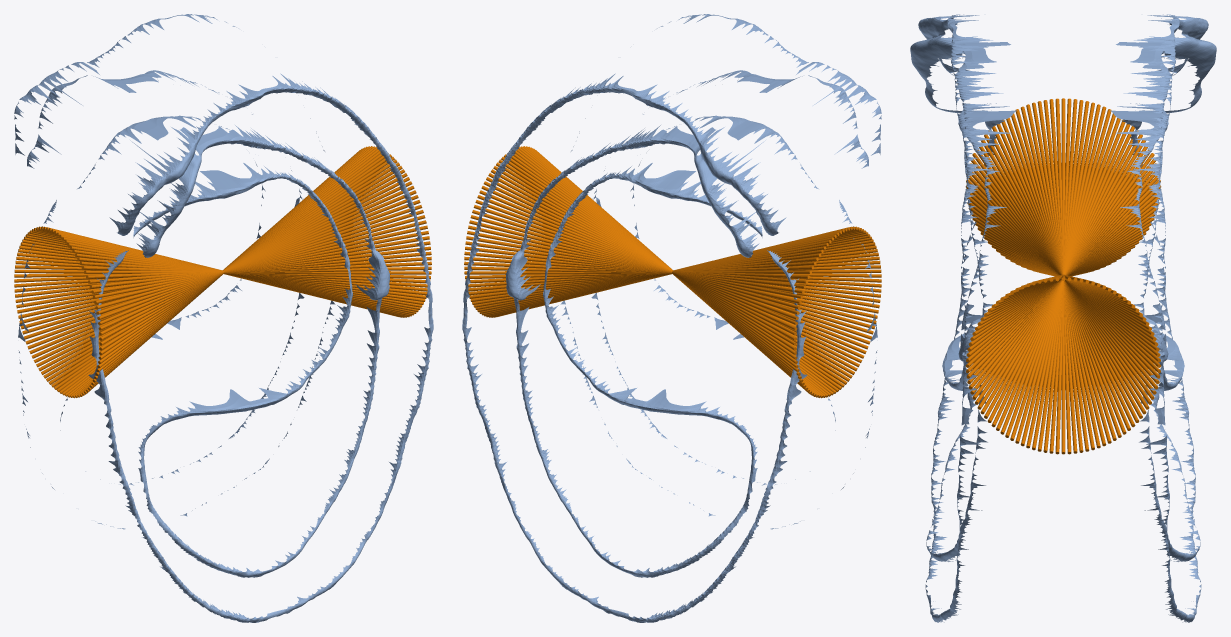
Rendered from A20024950_5995-37-531-2354_DigitalTwin.glb.
The picture shows the model from 3 angles, left to right: view 1: azimuth 30°, elevation 25°; view 2: azimuth 150°, elevation 25°; view 3: azimuth 270°, elevation 25°; orthographic projection. The views are drawn at different scales.
Parts seen in each view (by area): view 1: world; view 2: world; view 3: world.
Boxes of the visible parts, x1,y1,x2,y2 form: world: [14, 14, 433, 622]; world: [462, 14, 881, 622]; world: [910, 14, 1216, 622].
Bounding box in the file's own units: 451 × 678 × 324.
